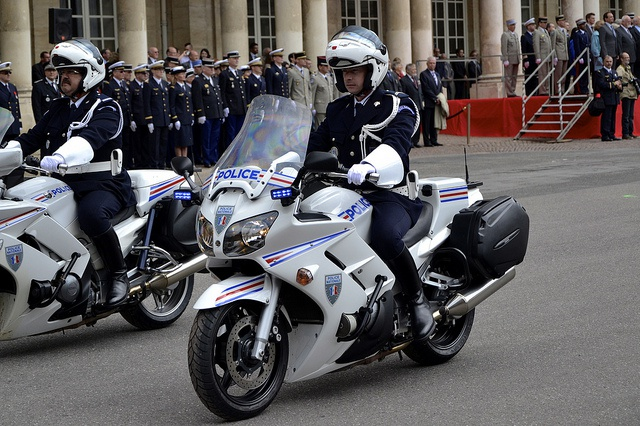non-vehicle: (169, 93, 530, 421), (0, 106, 209, 341)
